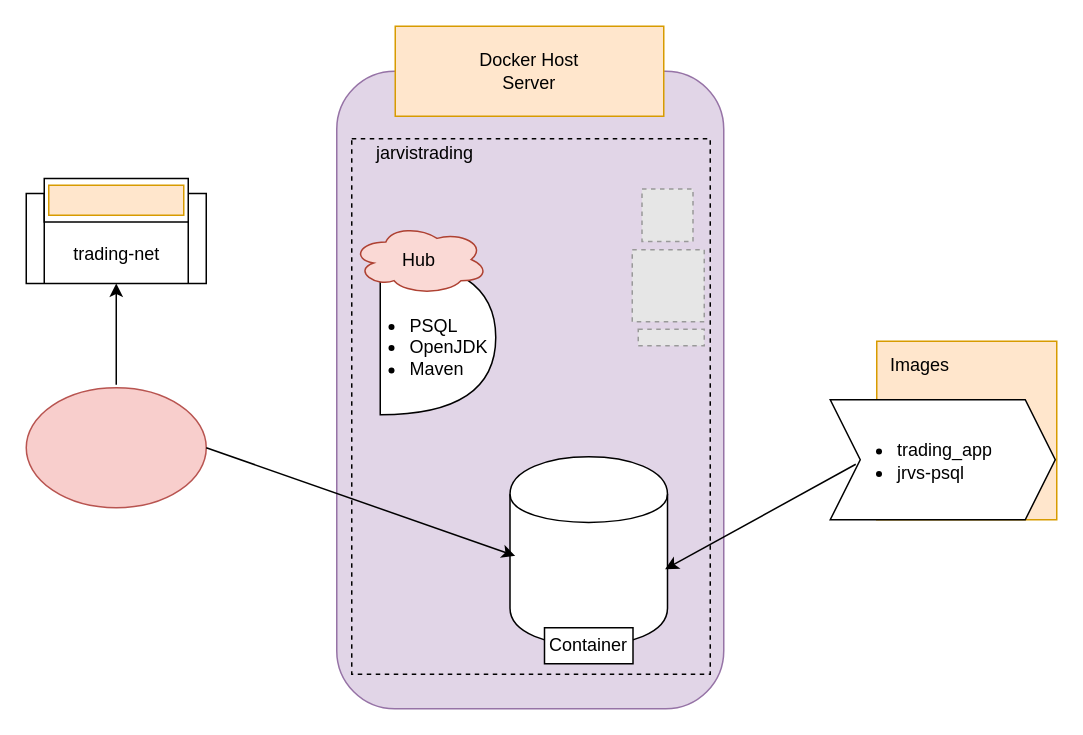
This 1083x735 diagram has some shape labels left out. Grey dashed boxes stand in for pictures. Here are the shapes that lost their labels. From the top down, the box of each, then its label:
(47, 184, 184, 215): network bridge
(25, 386, 206, 508): Docker Daemon
